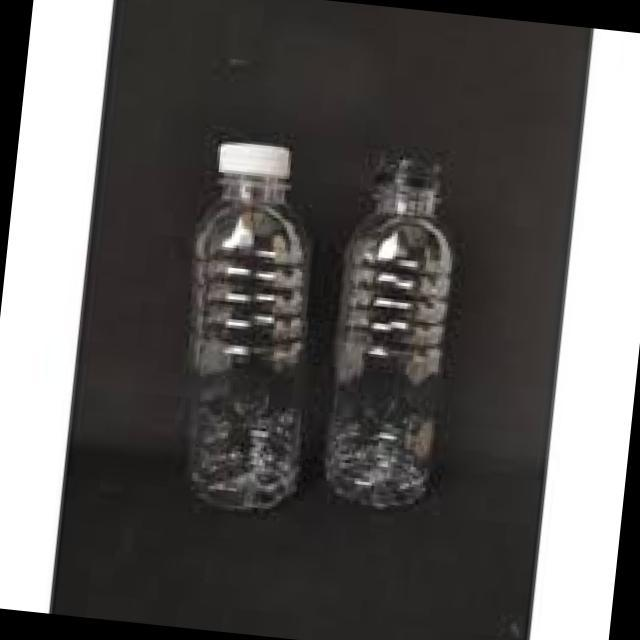good: (160, 122, 336, 517), (304, 146, 485, 524)
